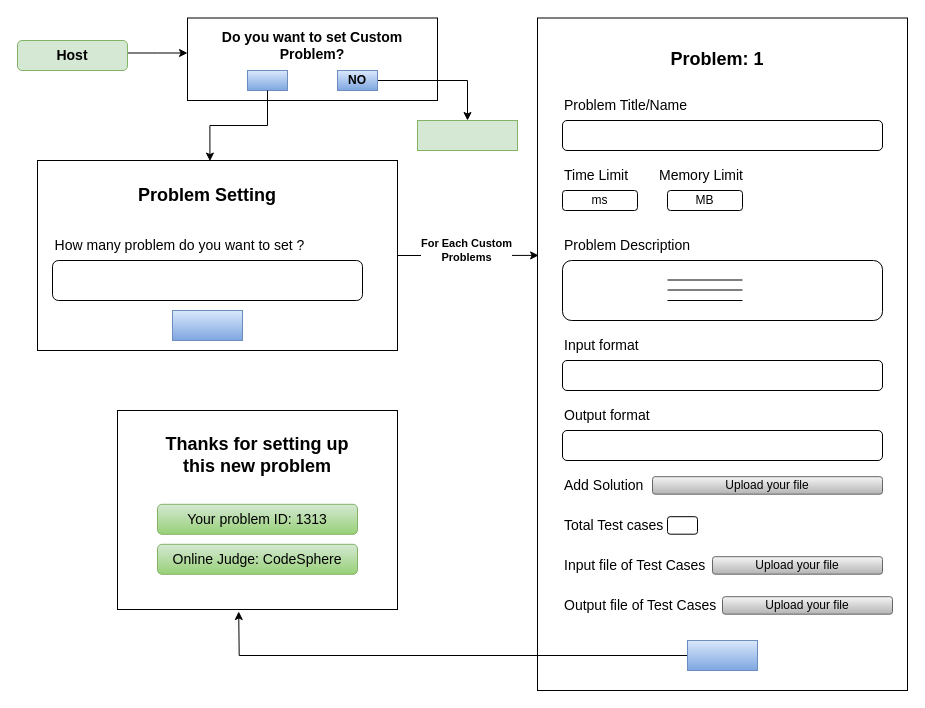
The diagram is 925 pixels wide and 708 high, and some of its shapes have lost their labels. The centre of each missing label's shape, as x and y in pixels:
"Contest details" goes at [467,135].
"Next" goes at [207,325].
"Submit" goes at [722,655].
"YES" goes at [267,80].
